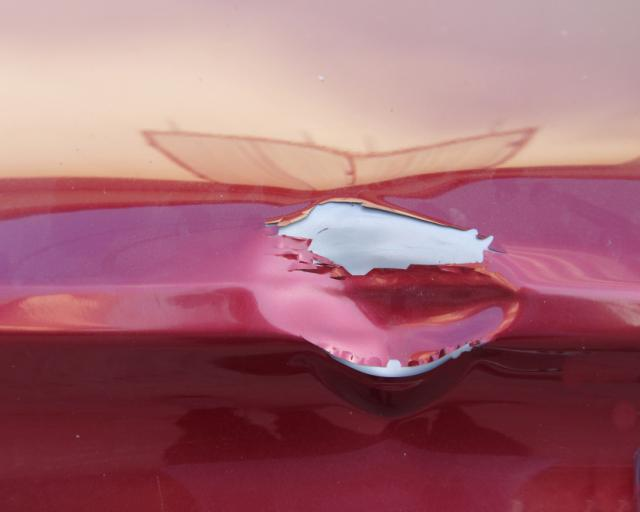dent: (240, 196, 520, 377)
